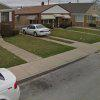Car: (20, 18, 53, 42)
